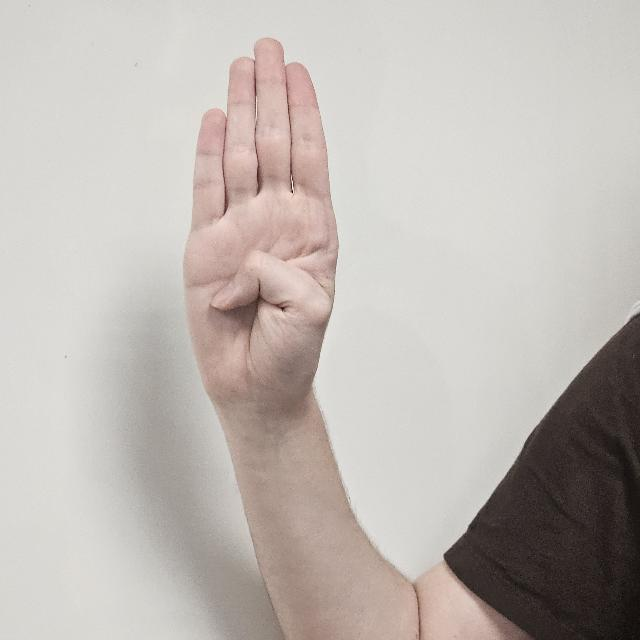Baixo: (186, 29, 340, 457)
